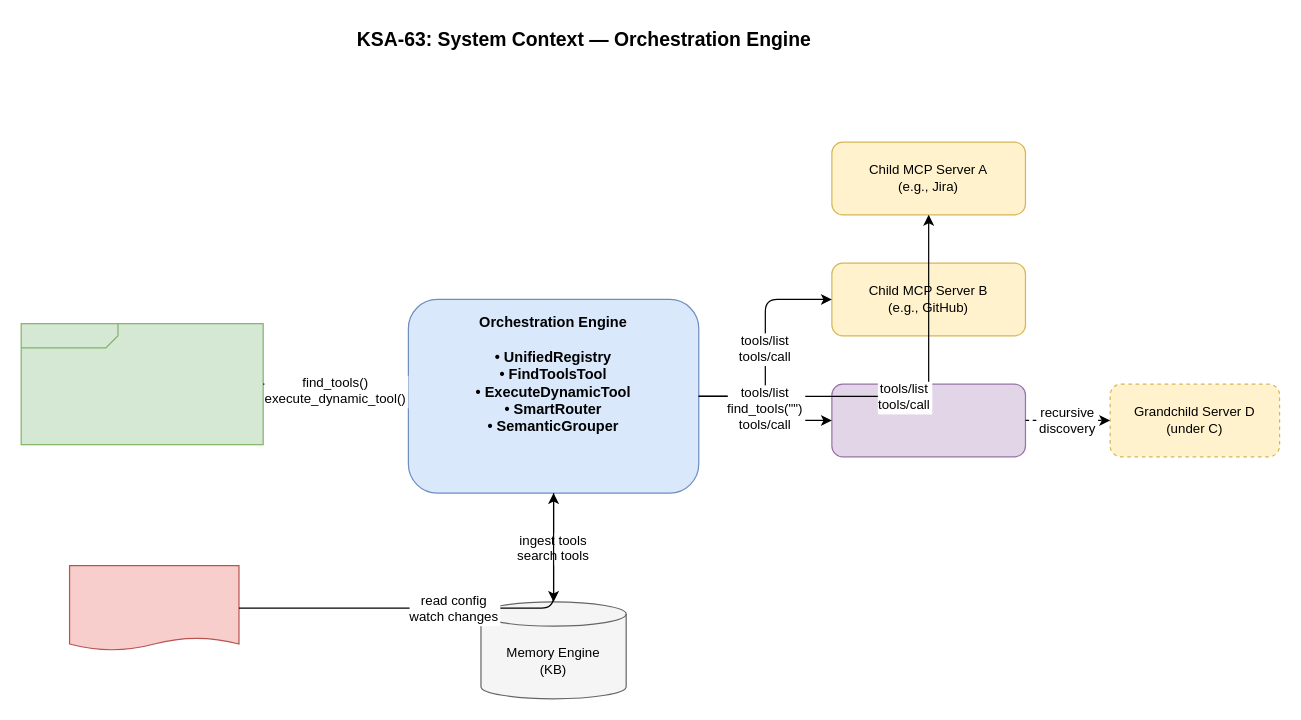
Image size: 1301x720. Some labels were removed from this diagram. Each missing label, with the centre of its shape:
AI Agents (SM, BA, SA, DEV, QA): point 141,383
Nested Orchestrator C (has own children): point 928,420
orchestration.json (Config): point 153,607
